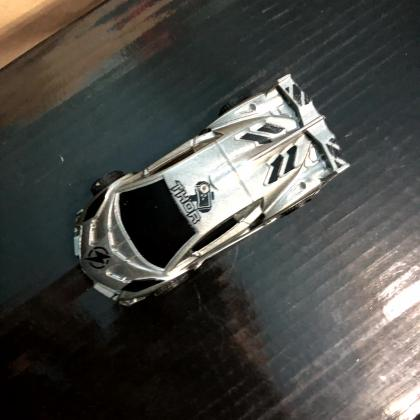Car: (73, 76, 348, 309)
